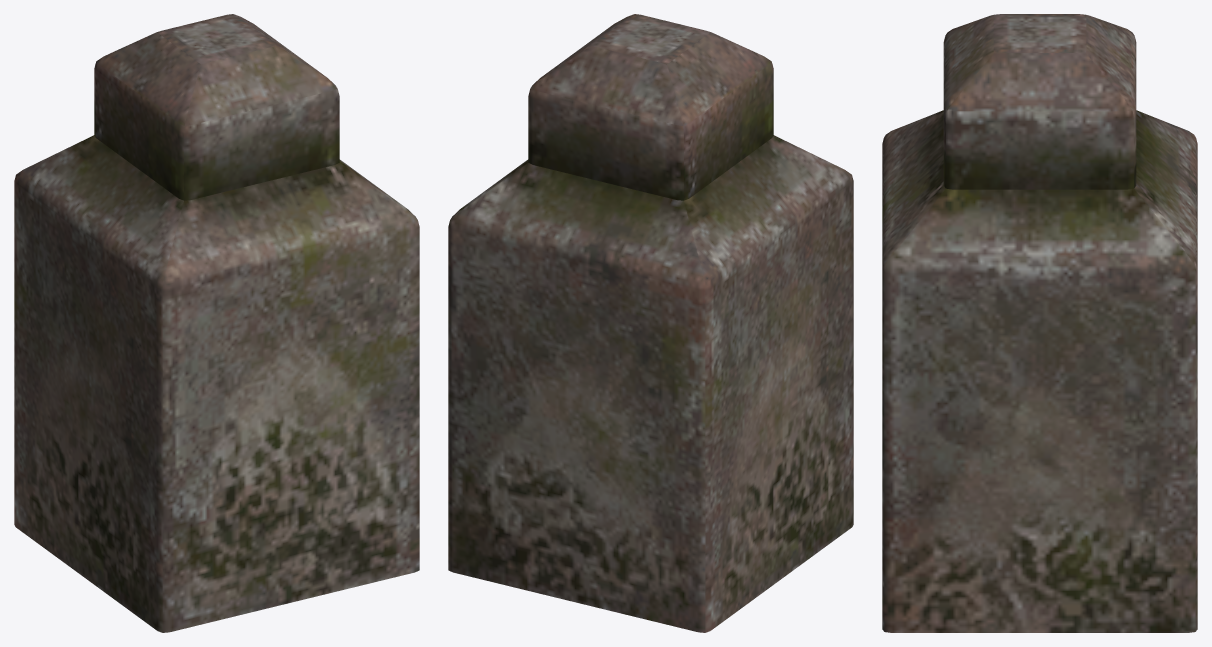
File: SM_Curb_03.fbx
3 renders of one model, left to right at view 1: azimuth 30°, elevation 25°; view 2: azimuth 150°, elevation 25°; view 3: azimuth 270°, elevation 25°, orthographic. The views are drawn at different scales.
Visible parts, largest first — view 1: SM_curb_03; view 2: SM_curb_03; view 3: SM_curb_03.
Boxes of the visible parts, x1=… form: SM_curb_03: x1=14, y1=14, x2=419, y2=632; SM_curb_03: x1=448, y1=14, x2=853, y2=632; SM_curb_03: x1=882, y1=14, x2=1197, y2=632.
Size of the model in its own units: 16.76 by 31.29 by 16.76.
